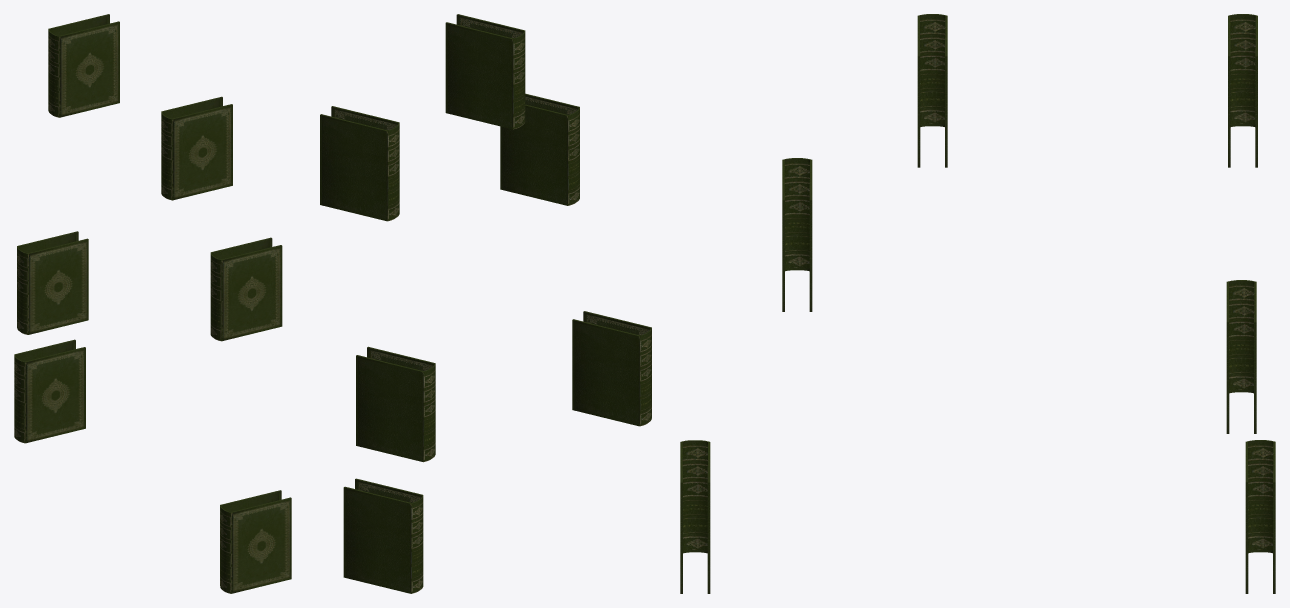
Rendered from book008Scaffale.fbx.
3 renders of one model, left to right at view 1: azimuth 30°, elevation 25°; view 2: azimuth 150°, elevation 25°; view 3: azimuth 270°, elevation 25°, orthographic. The views are drawn at different scales.
Parts seen in each view (by area): view 1: Cube.056_book.008_0; view 2: Cube.056_book.008_0; view 3: Cube.056_book.008_0.
Part boxes in pixels (<box>): Cube.056_book.008_0: <box>14,14,291,593</box>; Cube.056_book.008_0: <box>320,14,651,593</box>; Cube.056_book.008_0: <box>680,14,1275,593</box>.
Bounding box in the file's own units: 42.86 × 174 × 169.
